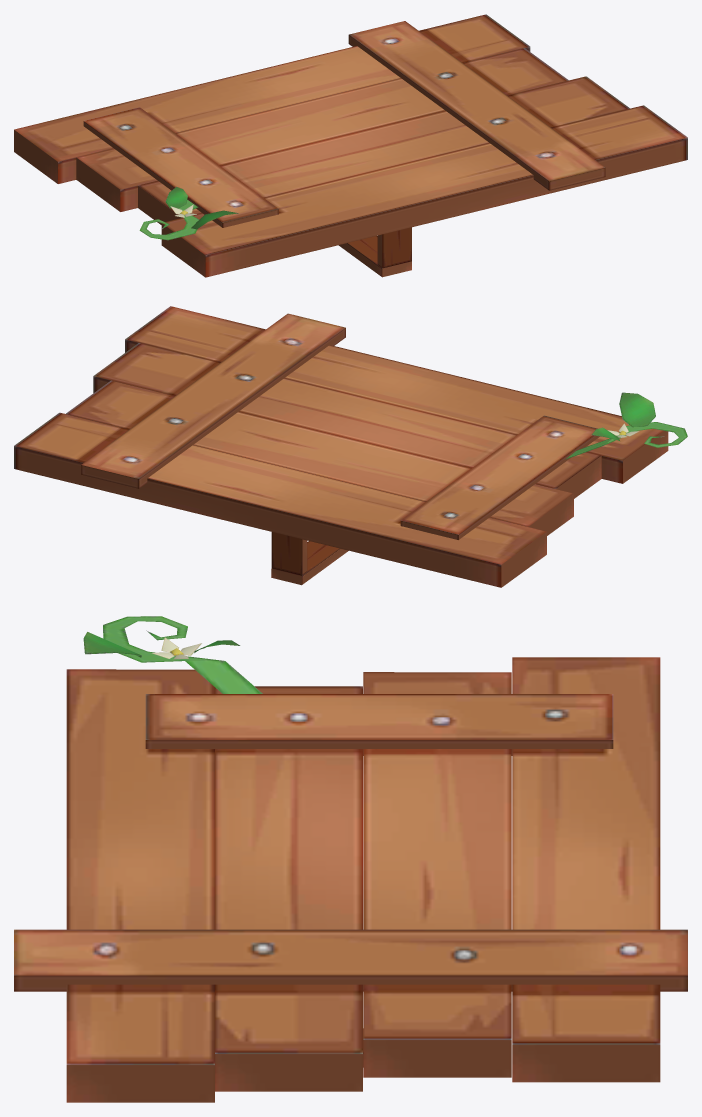
File: shield0066.fbx
The picture shows the model from 3 angles, top to bottom: view 1: azimuth 30°, elevation 25°; view 2: azimuth 150°, elevation 25°; view 3: azimuth 270°, elevation 25°; orthographic projection. The views are drawn at different scales.
Visible parts, largest first — view 1: shield066; view 2: shield066; view 3: shield066.
Boxes of the visible parts, <box> form: shield066: <box>14,14,687,277</box>; shield066: <box>14,306,687,587</box>; shield066: <box>14,616,687,1102</box>.
Bounding box in the file's own units: 0.4904 × 0.1287 × 0.3274.
1 material, 1 textured.
